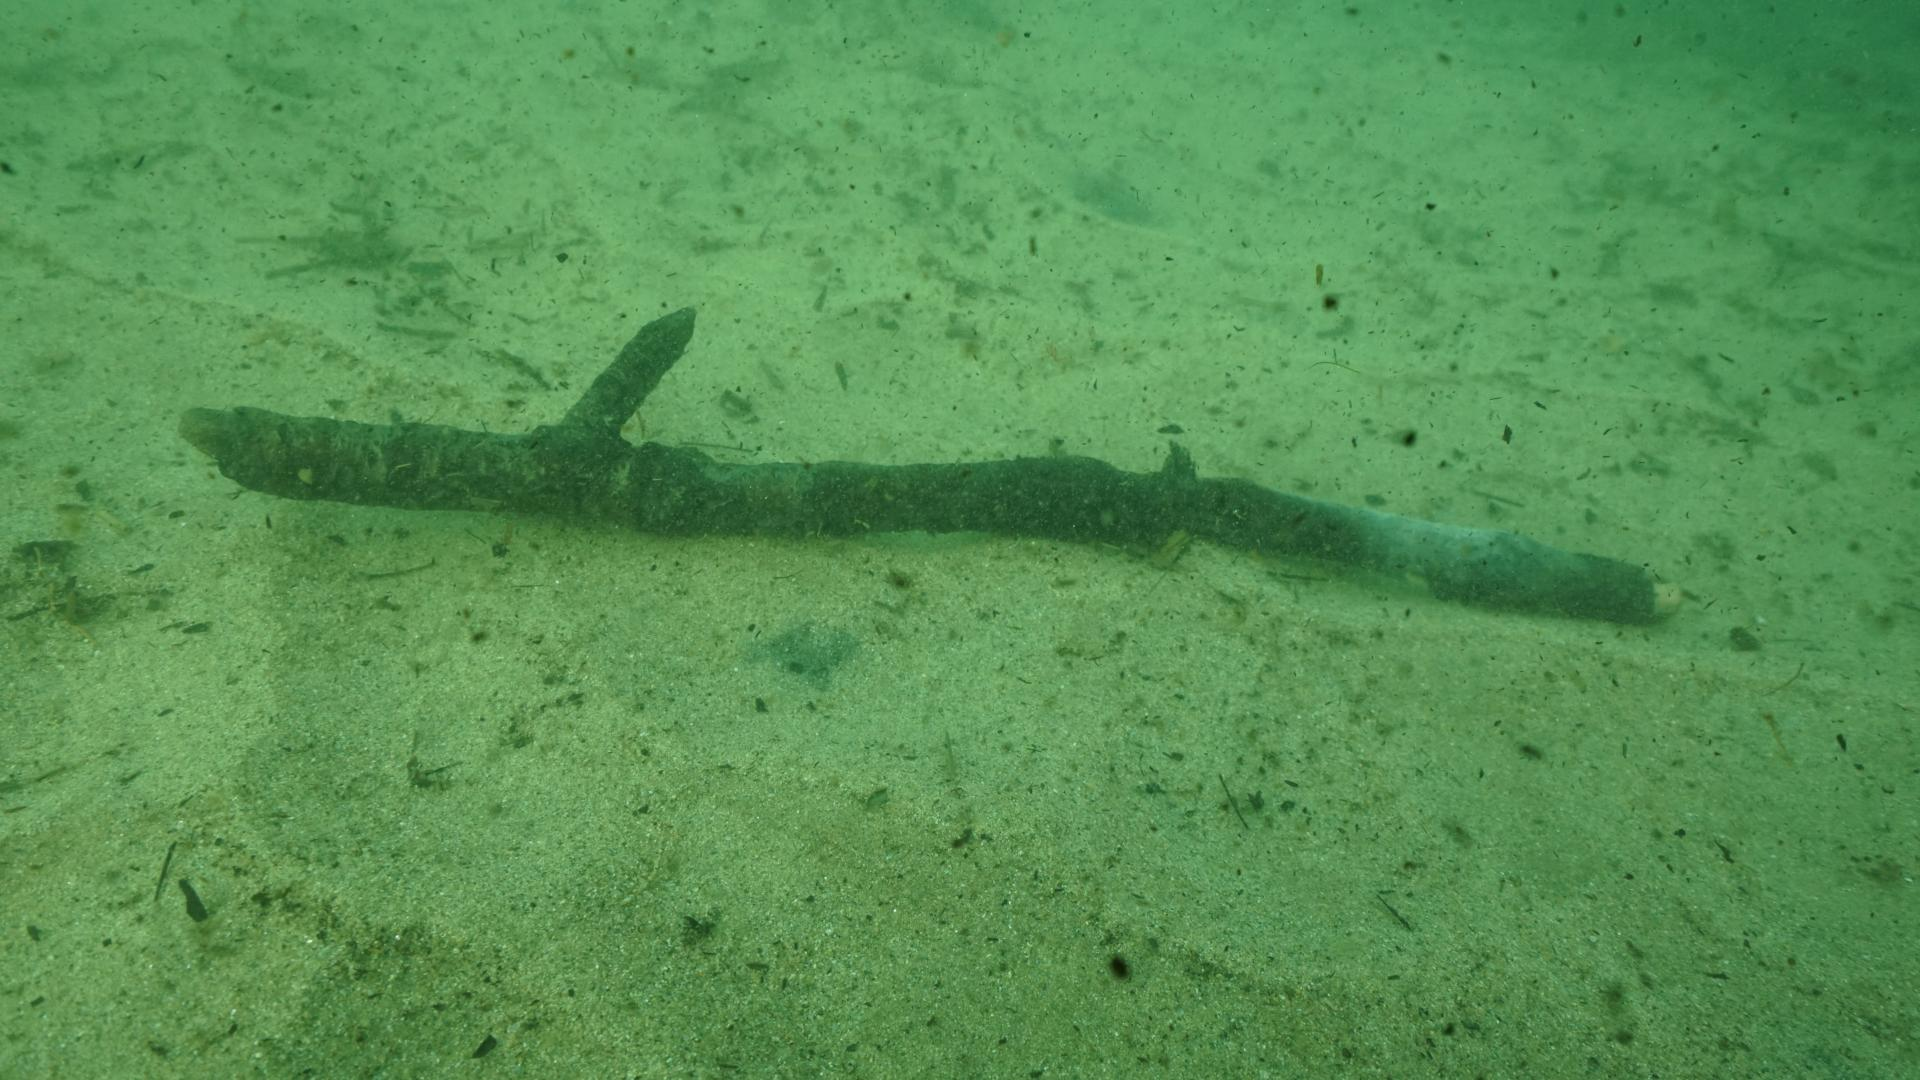wood: (175, 307, 1685, 628)
